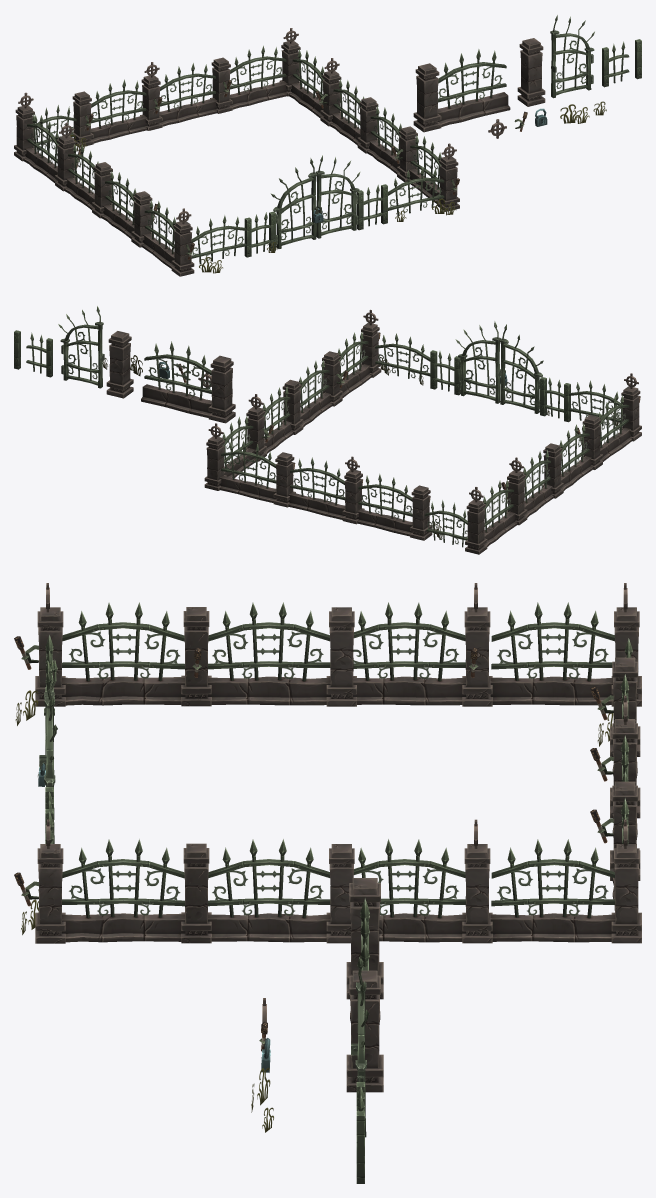
3 renders of one model, top to bottom at view 1: azimuth 30°, elevation 25°; view 2: azimuth 150°, elevation 25°; view 3: azimuth 270°, elevation 25°, orthographic. The views are drawn at different scales.
Visible parts, largest first — view 1: fence_01, fence_01_003, fence_01_011, fence_01_010, fence_01_009, fence_01_000, fence_01_008, fence_01_005, fence_01_002, fence_01_004, fence_01_007, fence_01_006 (+12 smaller); view 2: fence_01, fence_01_011, fence_01_003, fence_01_010, fence_01_000, fence_01_005, fence_01_008, fence_01_009, fence_01_007, fence_01_004, fence_01_002, fence_01_006 (+12 smaller); view 3: fence_01_002, fence_01_004, fence_01_008, fence_01_005, fence_01_009, fence_01_007, fence_01_000, fence_01_006, fence_01, pillar_01, pillar_01_002, pillar_01_003 (+5 smaller).
Boxes of the visible parts, bbox=[...] form: fence_01: bbox=[413, 49, 510, 132]; fence_01_003: bbox=[210, 45, 287, 113]; fence_01_011: bbox=[71, 79, 147, 147]; fence_01_010: bbox=[140, 63, 217, 130]; fence_01_009: bbox=[142, 200, 194, 276]; fence_01_000: bbox=[14, 106, 58, 182]; fence_01_008: bbox=[92, 162, 136, 238]; fence_01_005: bbox=[357, 97, 401, 174]; fence_01_002: bbox=[279, 41, 324, 117]; fence_01_004: bbox=[407, 135, 459, 211]; fence_01_007: bbox=[55, 135, 98, 209]; fence_01_006: bbox=[320, 71, 364, 145]; fence_01: bbox=[141, 341, 235, 423]; fence_01_011: bbox=[357, 473, 432, 540]; fence_01_003: bbox=[219, 440, 295, 507]; fence_01_010: bbox=[288, 457, 364, 524]; fence_01_000: bbox=[465, 479, 517, 554]; fence_01_005: bbox=[281, 360, 332, 434]; fence_01_008: bbox=[541, 423, 592, 498]; fence_01_009: bbox=[598, 386, 641, 461]; fence_01_007: bbox=[506, 450, 553, 525]; fence_01_004: bbox=[338, 322, 381, 397]; fence_01_002: bbox=[204, 416, 255, 490]; fence_01_006: bbox=[246, 386, 293, 461]; fence_01_002: bbox=[490, 839, 641, 943]; fence_01_004: bbox=[35, 839, 185, 943]; fence_01_008: bbox=[207, 602, 356, 706]; fence_01_005: bbox=[207, 839, 354, 943]; fence_01_009: bbox=[35, 602, 185, 706]; fence_01_007: bbox=[353, 602, 492, 706]; fence_01_000: bbox=[490, 602, 641, 706]; fence_01_006: bbox=[354, 839, 492, 943]; fence_01: bbox=[346, 878, 383, 1024]; pillar_01: bbox=[346, 970, 383, 1092]; pillar_01_002: bbox=[181, 843, 211, 943]; pillar_01_003: bbox=[181, 607, 211, 706].
Size of the model in its own units: 51.34 by 7.75 by 27.77.
Materials: 13 (13 with a texture image).
